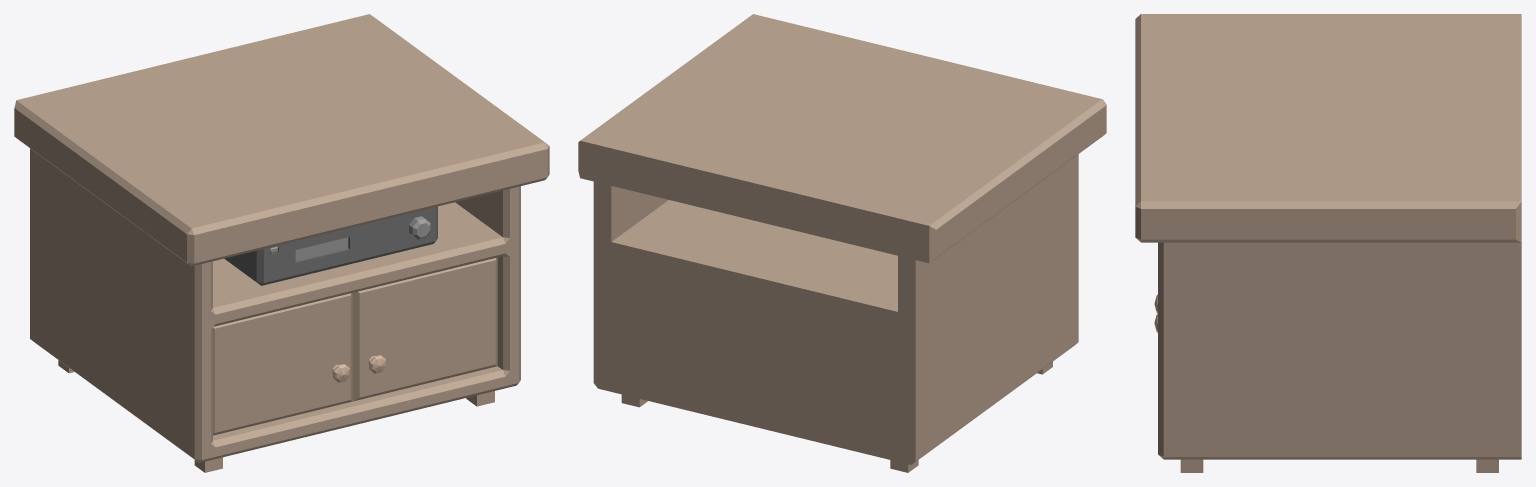
Rendered from Prop_Living_Room_TV_Stand.fbx.
3 renders of one model, left to right at view 1: azimuth 30°, elevation 25°; view 2: azimuth 150°, elevation 25°; view 3: azimuth 270°, elevation 25°, orthographic. The views are drawn at different scales.
Visible parts, largest first — view 1: object2.022, object3.017, object1.037, object4.010; view 2: object2.022; view 3: object2.022.
Boxes of the visible parts, <box> form: object2.022: <box>14,14,549,472</box>; object3.017: <box>352,257,497,401</box>; object1.037: <box>213,293,352,435</box>; object4.010: <box>224,206,437,285</box>; object2.022: <box>578,14,1106,472</box>; object2.022: <box>1135,14,1521,472</box>.
Bounding box in the file's own units: 100 × 70 × 85.
